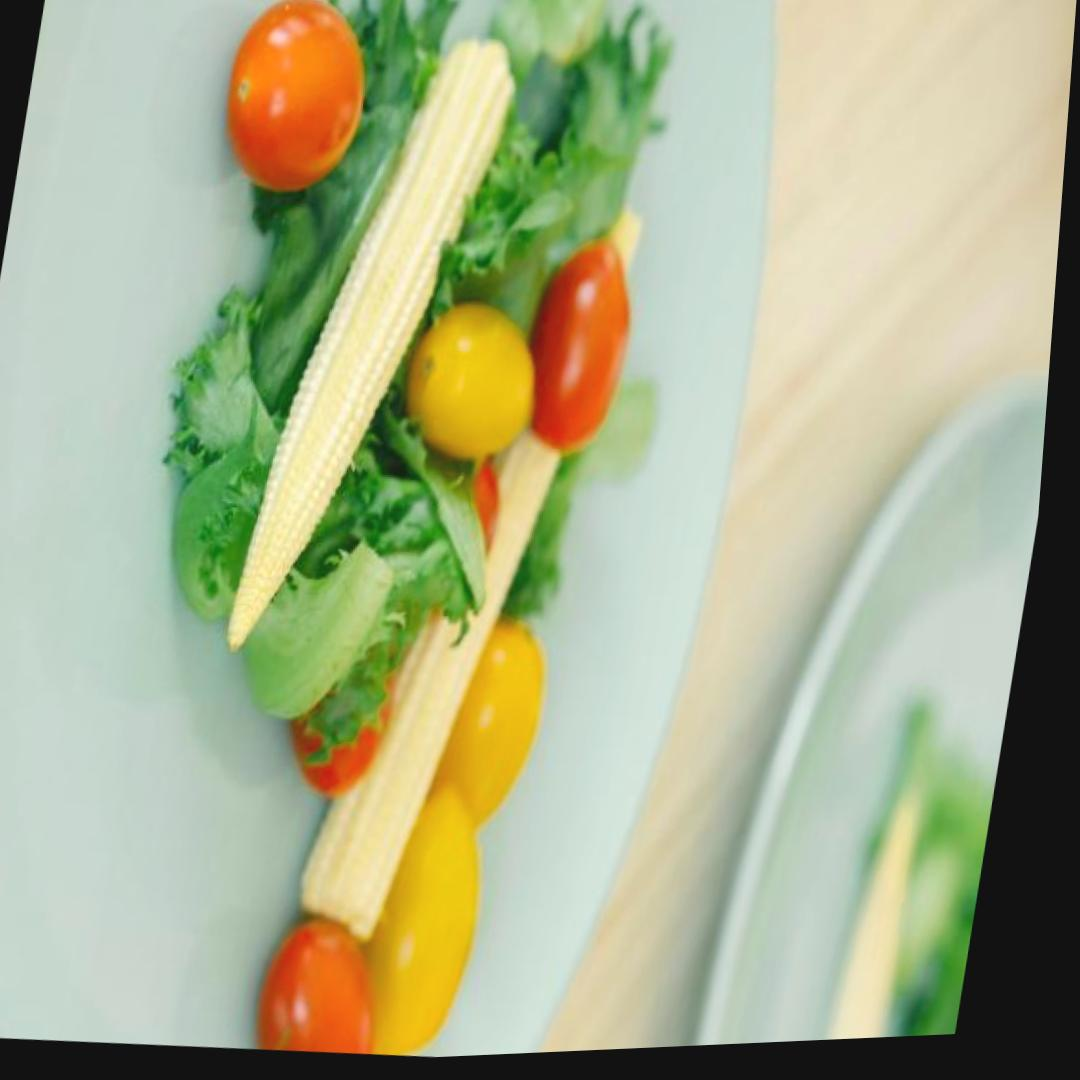matang: (212, 0, 378, 198), (513, 226, 649, 463)
setengah_matang: (336, 775, 502, 1062), (413, 610, 554, 846), (395, 293, 548, 468)
